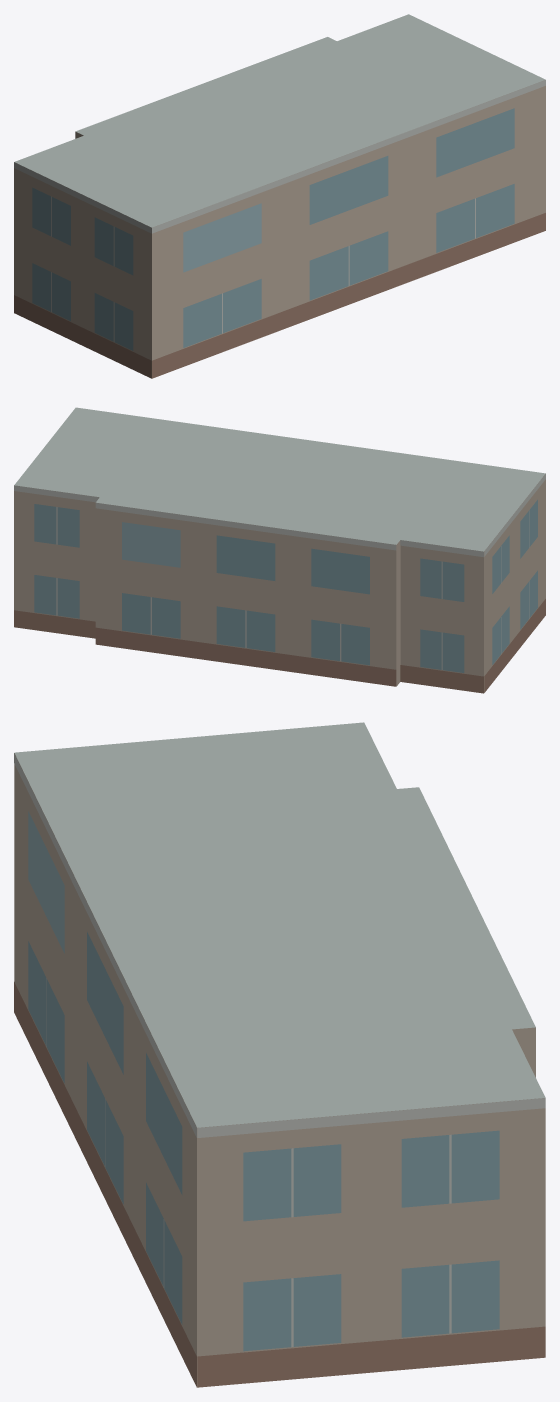
File: survey-upis-32697677.glb
3 views of the same model, one above another, from view 1: azimuth 30°, elevation 25°; view 2: azimuth 150°, elevation 25°; view 3: azimuth 270°, elevation 25° (orthographic). The views are drawn at different scales.
Visible parts, largest first — view 1: survey-upis-32697677.tmp; view 2: survey-upis-32697677.tmp; view 3: survey-upis-32697677.tmp.
Boxes of the visible parts, x1,y1,x2,y2 form: survey-upis-32697677.tmp: [14, 14, 545, 378]; survey-upis-32697677.tmp: [14, 407, 545, 693]; survey-upis-32697677.tmp: [14, 722, 545, 1387].
Bounding box in the file's own units: 20.43 × 6.1 × 11.32.
